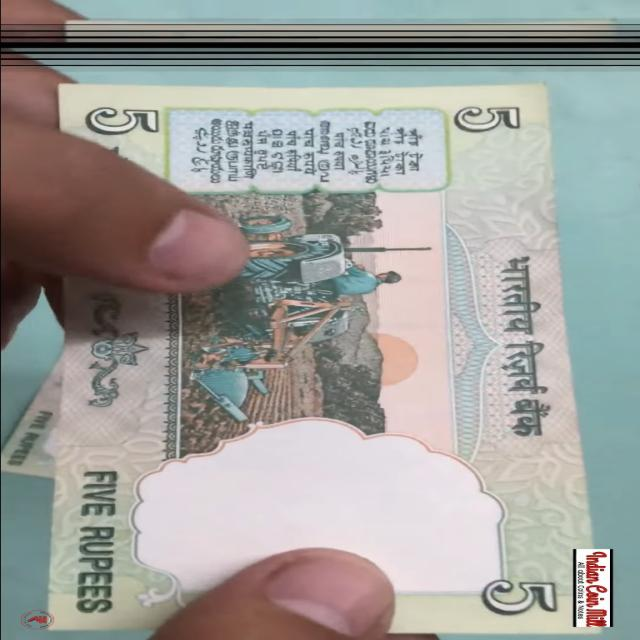5IndianRupees: (54, 87, 563, 620)
